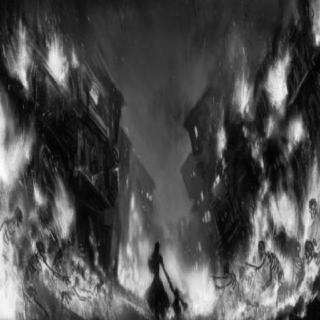Fire: (2, 2, 318, 314)
